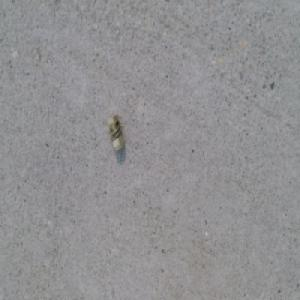BoltNutSet: (107, 116, 124, 153)
